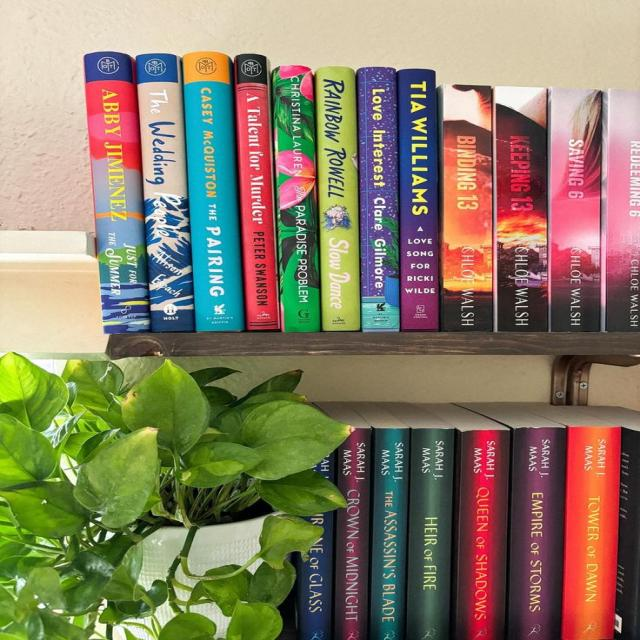book: (84, 51, 150, 333), (183, 51, 244, 331), (137, 54, 194, 330), (548, 88, 606, 332), (438, 86, 492, 331), (495, 87, 547, 331), (506, 429, 565, 639), (272, 65, 318, 332), (234, 54, 278, 330), (561, 426, 618, 639), (454, 429, 509, 639), (315, 67, 358, 330), (357, 67, 398, 332), (397, 68, 438, 331), (406, 429, 454, 639), (603, 90, 639, 332), (370, 429, 408, 639), (335, 428, 369, 639)
